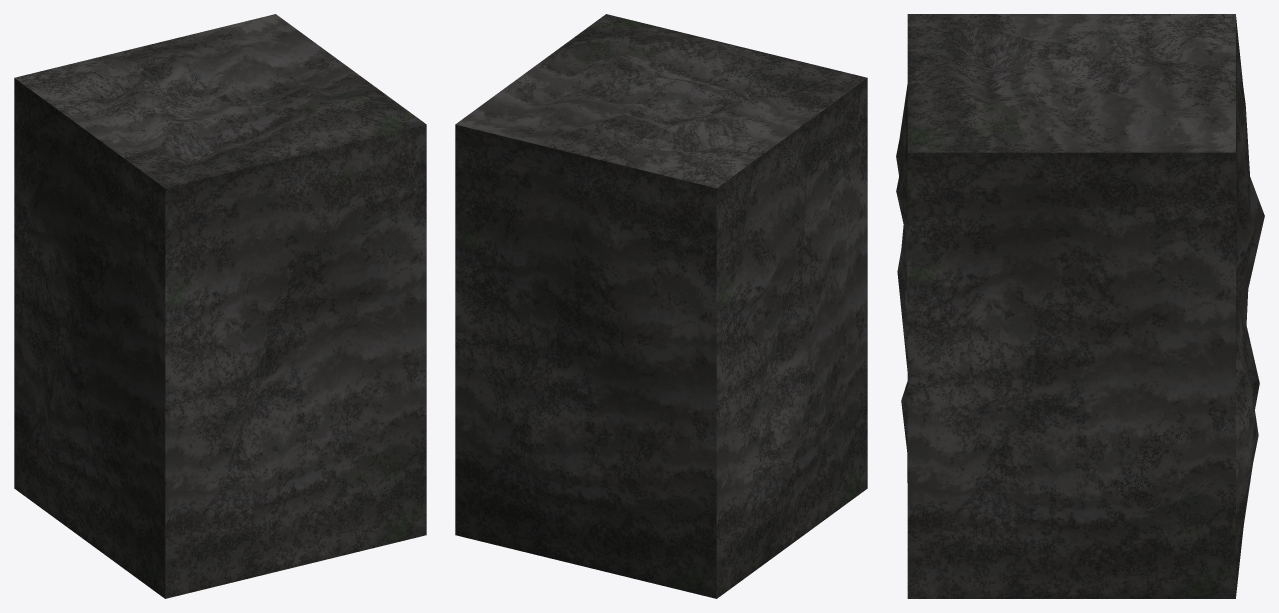
File: SM_cv_wall_c.glb
The picture shows the model from 3 angles, left to right: view 1: azimuth 30°, elevation 25°; view 2: azimuth 150°, elevation 25°; view 3: azimuth 270°, elevation 25°; orthographic projection. The views are drawn at different scales.
Parts seen in each view (by area): view 1: SM_cv_wall_c; view 2: SM_cv_wall_c; view 3: SM_cv_wall_c.
Boxes of the visible parts, <box> form: SM_cv_wall_c: <box>14,14,426,598</box>; SM_cv_wall_c: <box>455,14,867,598</box>; SM_cv_wall_c: <box>896,14,1264,598</box>.
Size of the model in its own units: 4.67 by 6.21 by 4.49.
1 material, 1 textured.
